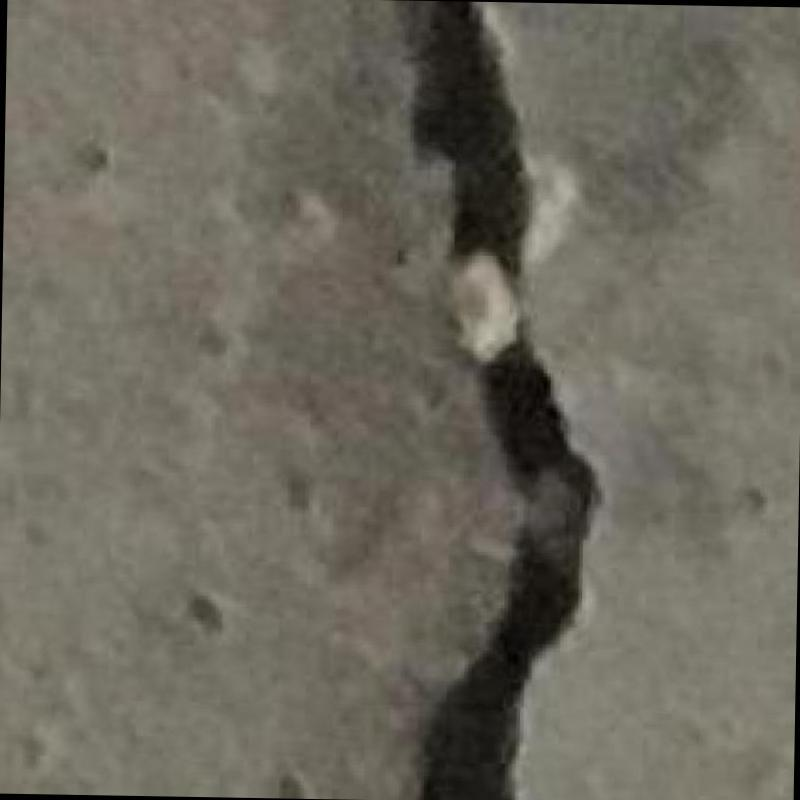crack: (398, 0, 600, 800)
